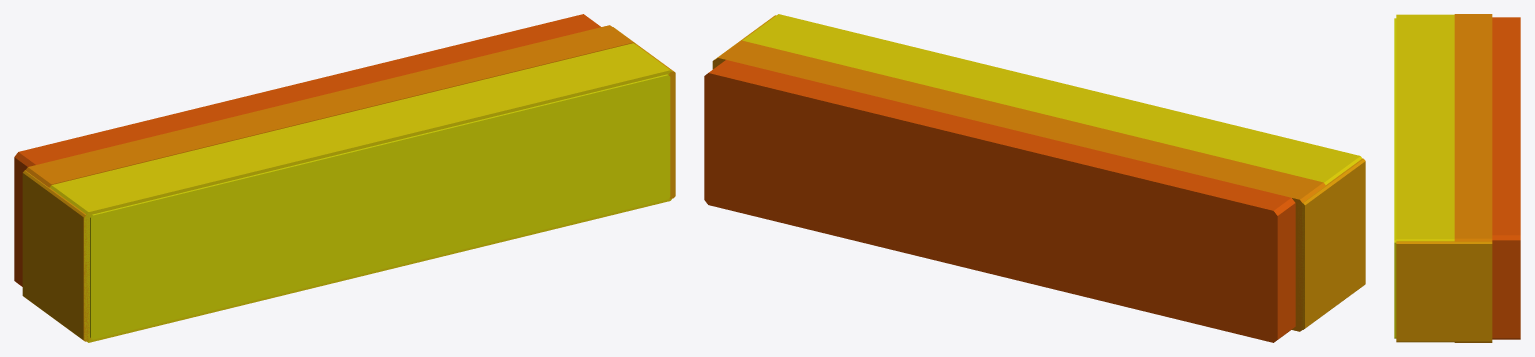
Rendered from SM_TransitSystemV1_Bus_Paint.obj.
3 renders of one model, left to right at view 1: azimuth 30°, elevation 25°; view 2: azimuth 150°, elevation 25°; view 3: azimuth 270°, elevation 25°, orthographic. The views are drawn at different scales.
Parts seen in each view (by area): view 1: RoofPanel, UpperBody, LowerBody, Skirt, RearCap, FrontCap; view 2: Skirt, UpperBody, LowerBody, RearCap; view 3: UpperBody, FrontCap, Skirt, LowerBody, RoofPanel.
Part boxes in pixels (left/top/right/bottom): RoofPanel: left=90, top=74, right=670, bottom=339; UpperBody: left=50, top=43, right=671, bottom=342; LowerBody: left=25, top=25, right=635, bottom=187; Skirt: left=14, top=14, right=600, bottom=286; RearCap: left=22, top=170, right=90, bottom=341; FrontCap: left=613, top=27, right=675, bottom=198; Skirt: left=704, top=60, right=1295, bottom=342; UpperBody: left=742, top=14, right=1362, bottom=184; LowerBody: left=713, top=40, right=1325, bottom=331; RearCap: left=1298, top=158, right=1365, bottom=329; UpperBody: left=1396, top=14, right=1454, bottom=241; FrontCap: left=1396, top=241, right=1492, bottom=342; Skirt: left=1492, top=17, right=1520, bottom=339; LowerBody: left=1454, top=14, right=1492, bottom=342; RoofPanel: left=1394, top=18, right=1396, bottom=338.
Bounding box in the file's own units: 1182 × 252 × 276.
